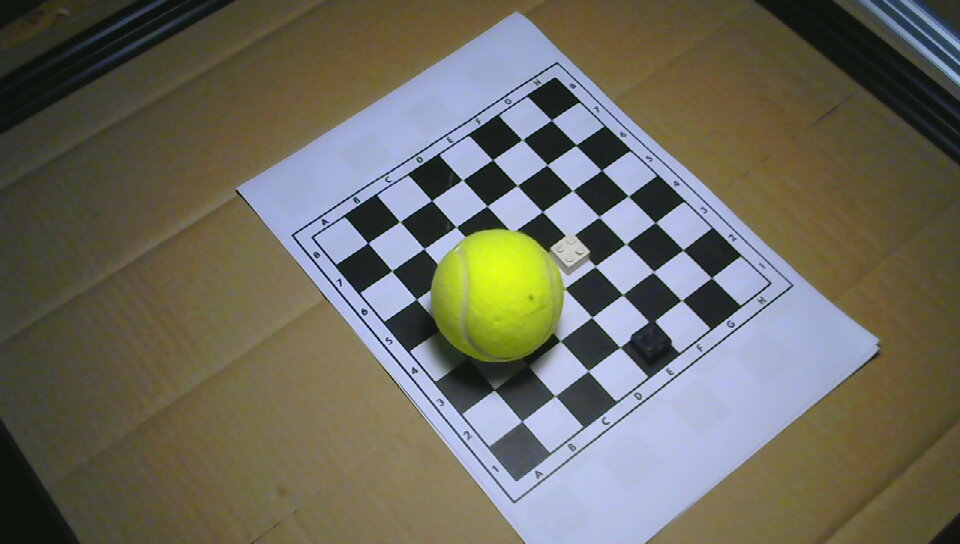bp: (631, 321, 674, 364)
wp: (556, 231, 590, 271)
